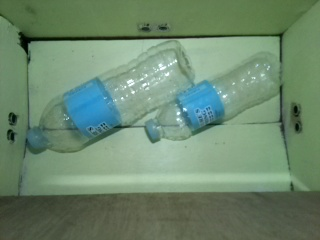bottle: (27, 40, 197, 156), (145, 51, 286, 147)
